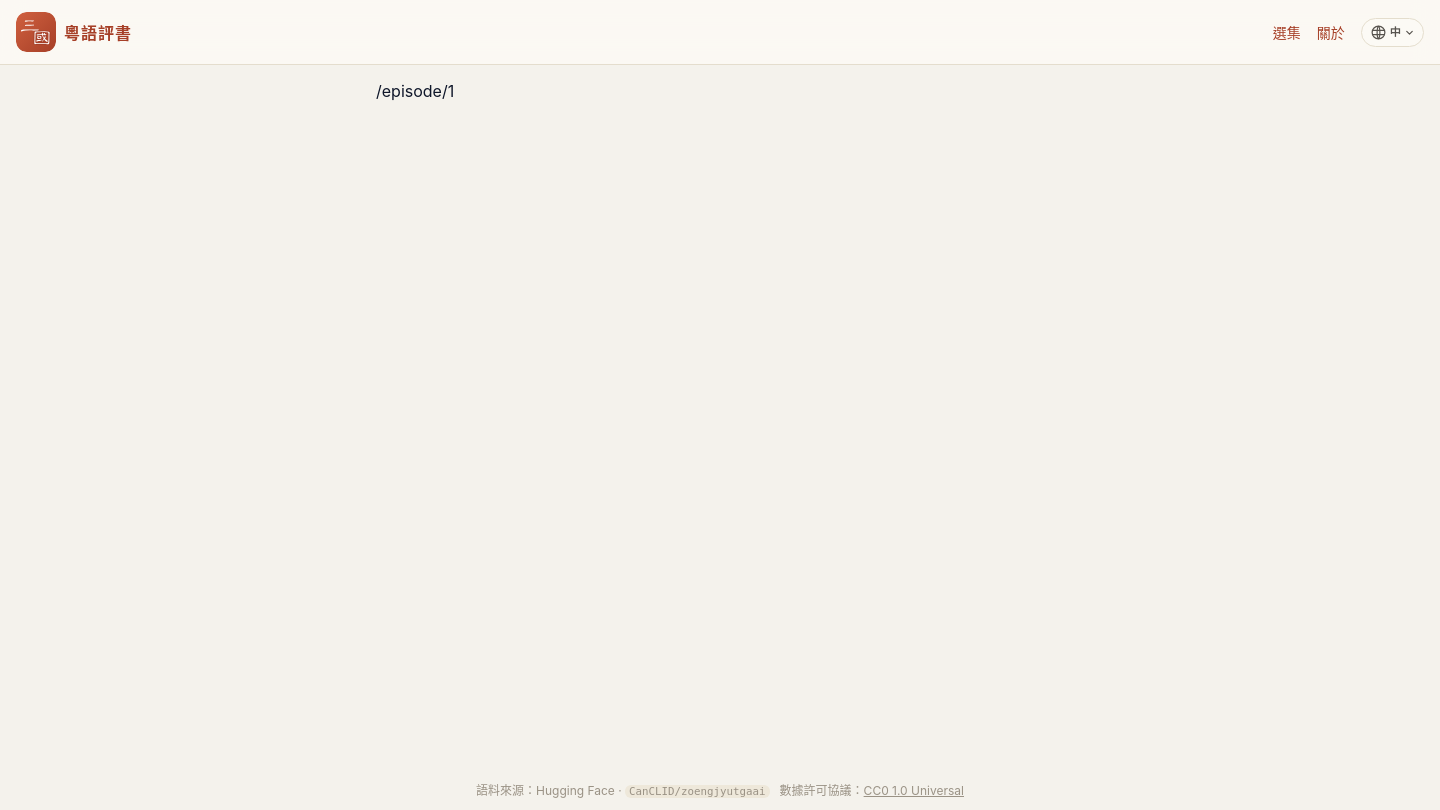
Test: Layout locale switcher › keeps a deep route and its view when switching
Check: the text with test id "path" reads "/episode/1", box [376, 81, 454, 101]
Click the button "中": [1392, 32] box [1361, 18, 1424, 46]
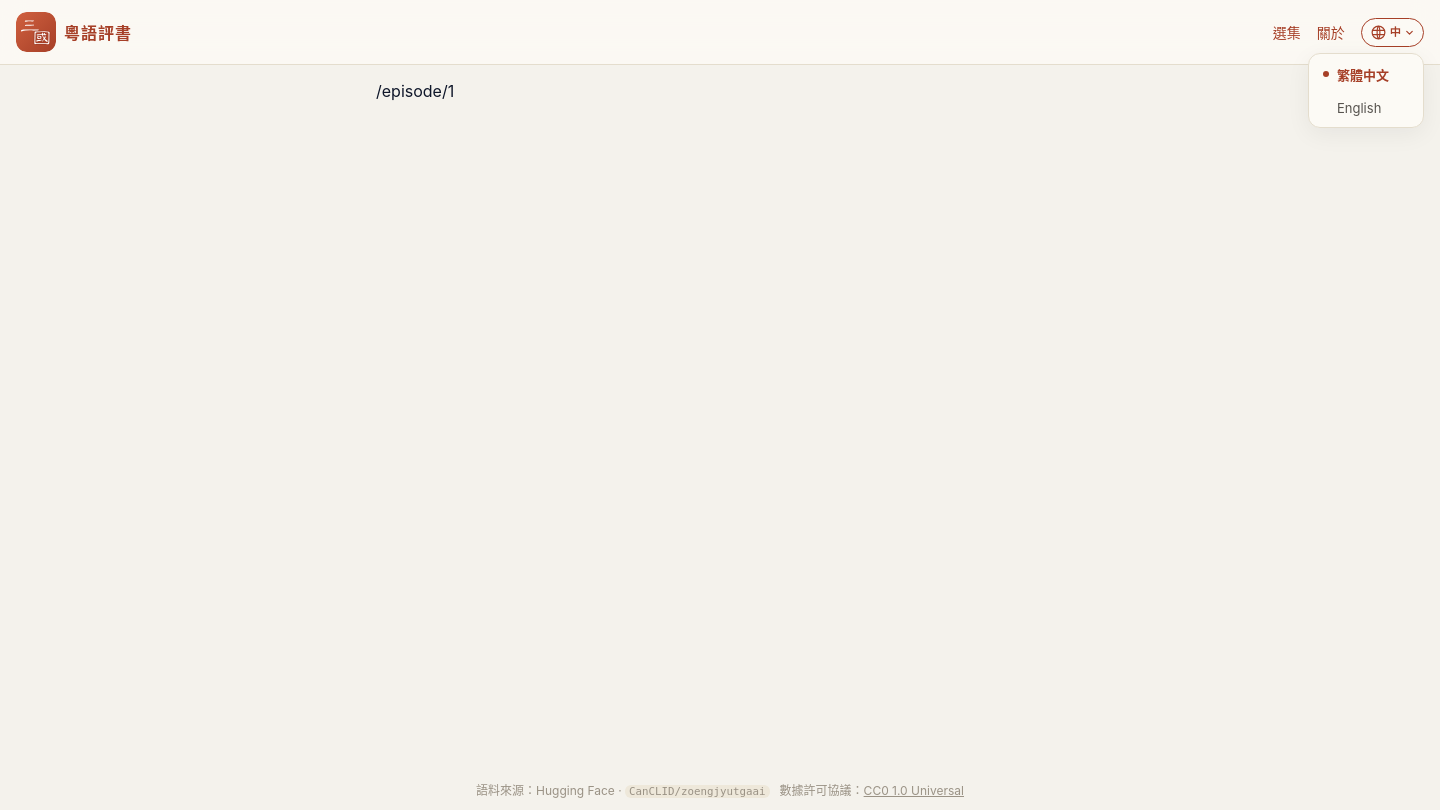
Click the button "English": [1366, 108] box [1313, 92, 1419, 122]
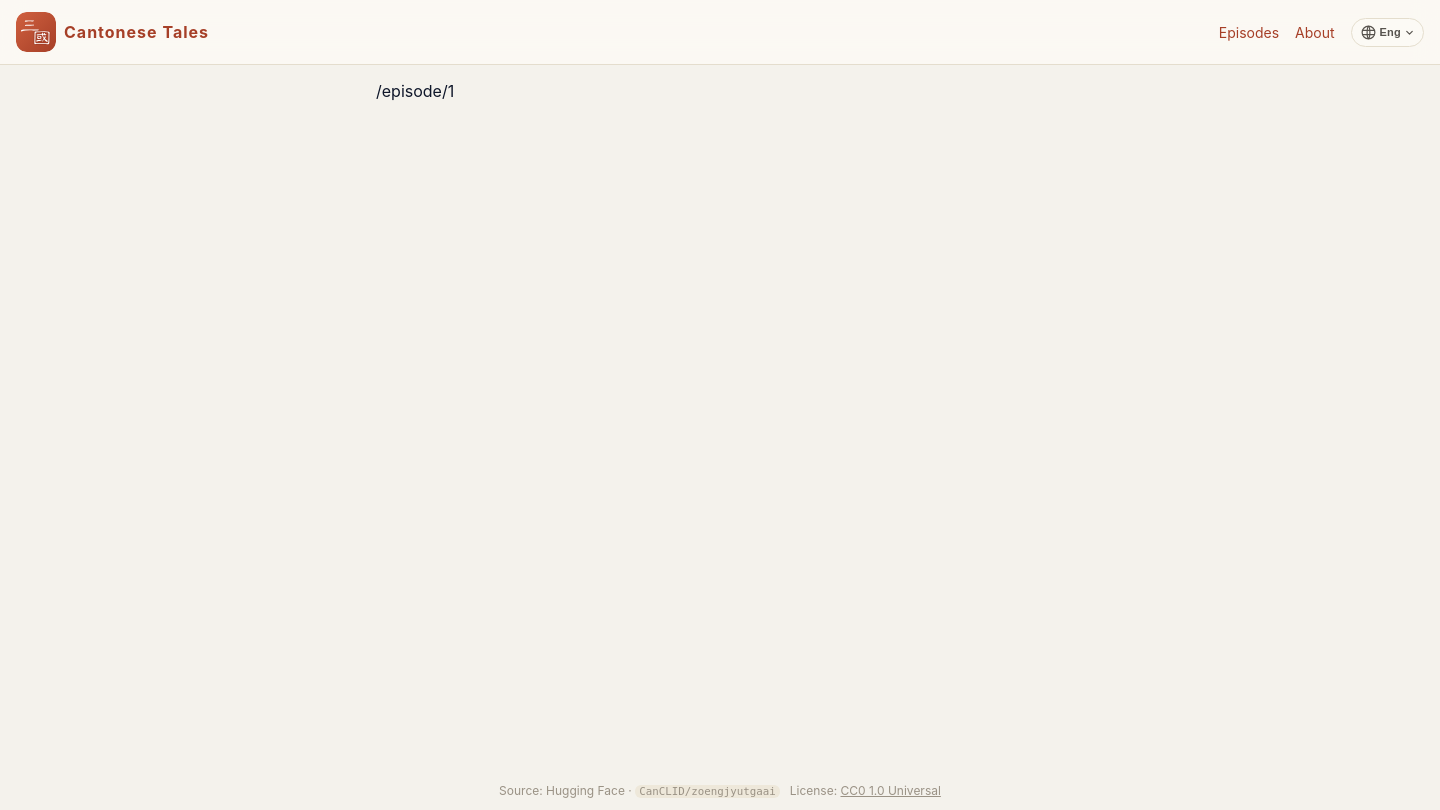
Check: the text with test id "path" reads "/episode/1", box [376, 81, 454, 101]
Check: the link "Episodes" is shown, box [1219, 24, 1279, 40]
